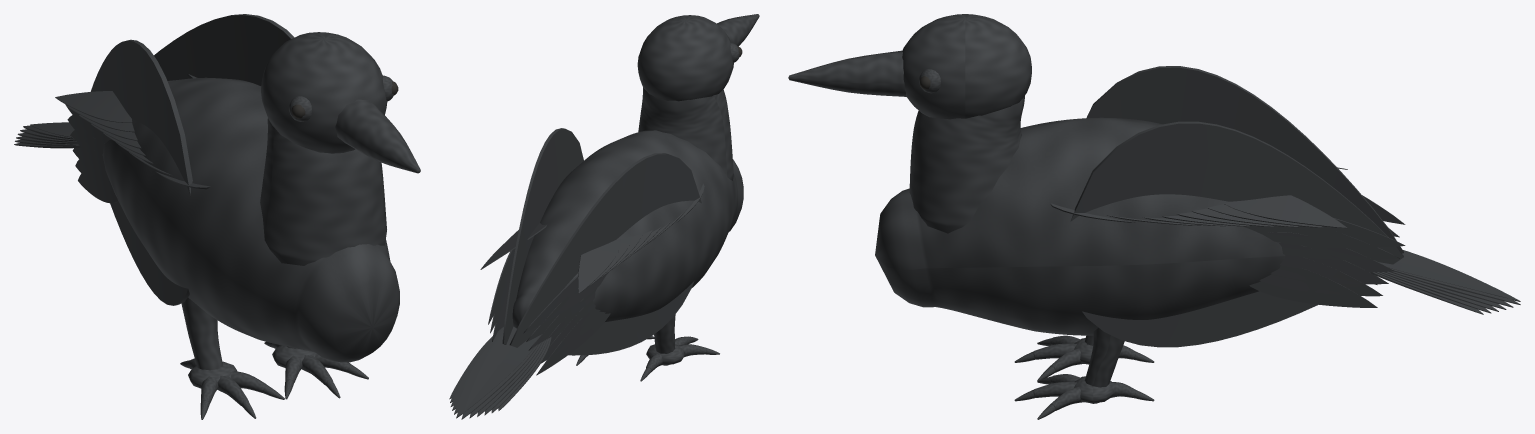
File: birds-and-reptiles-hd-common-raven-9a7e141c__28082.glb
3 renders of one model, left to right at view 1: azimuth 30°, elevation 25°; view 2: azimuth 150°, elevation 25°; view 3: azimuth 270°, elevation 25°, orthographic. The views are drawn at different scales.
Parts seen in each view (by area): view 1: common-raven; view 2: common-raven; view 3: common-raven.
Part boxes in pixels (box(x1,y1,x2,y2)): common-raven: box(14, 14, 420, 419); common-raven: box(449, 14, 759, 419); common-raven: box(788, 14, 1520, 419).
Size of the model in its own units: 0.2453 by 0.5313 by 0.9692.
Materials: 2 (1 with a texture image).
